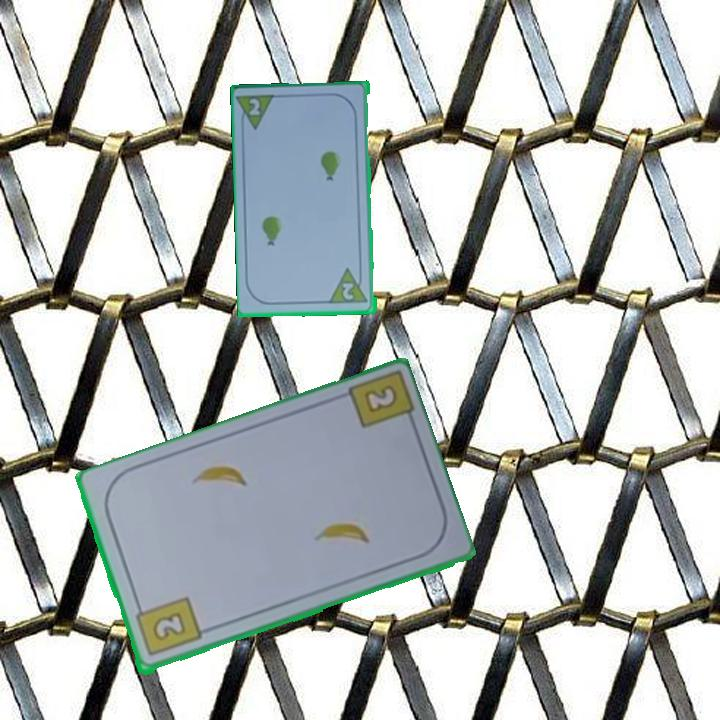2b: (131, 594, 204, 660), (364, 385, 397, 414)
2p: (235, 91, 280, 134), (339, 279, 357, 303)
